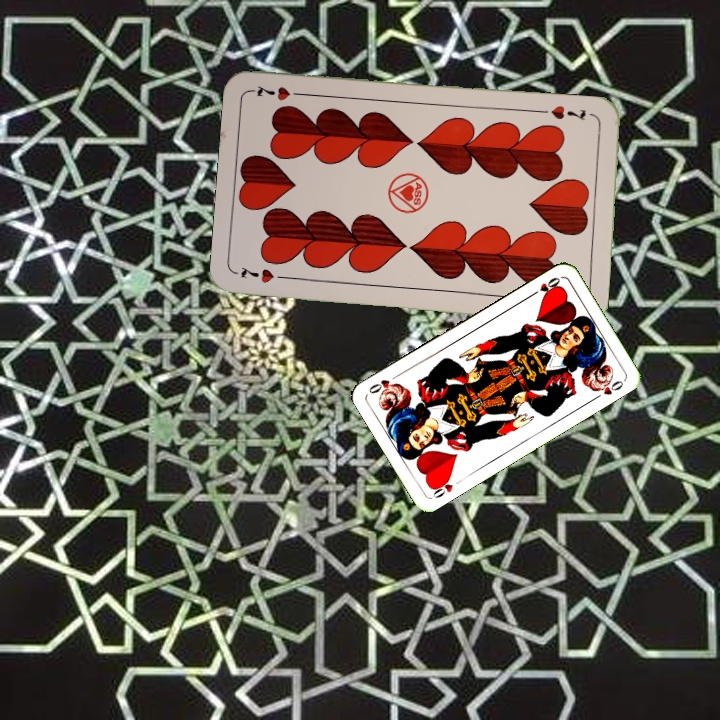H7: (237, 262, 293, 285), (547, 101, 588, 123)
HO: (526, 273, 563, 299), (427, 473, 456, 501)
